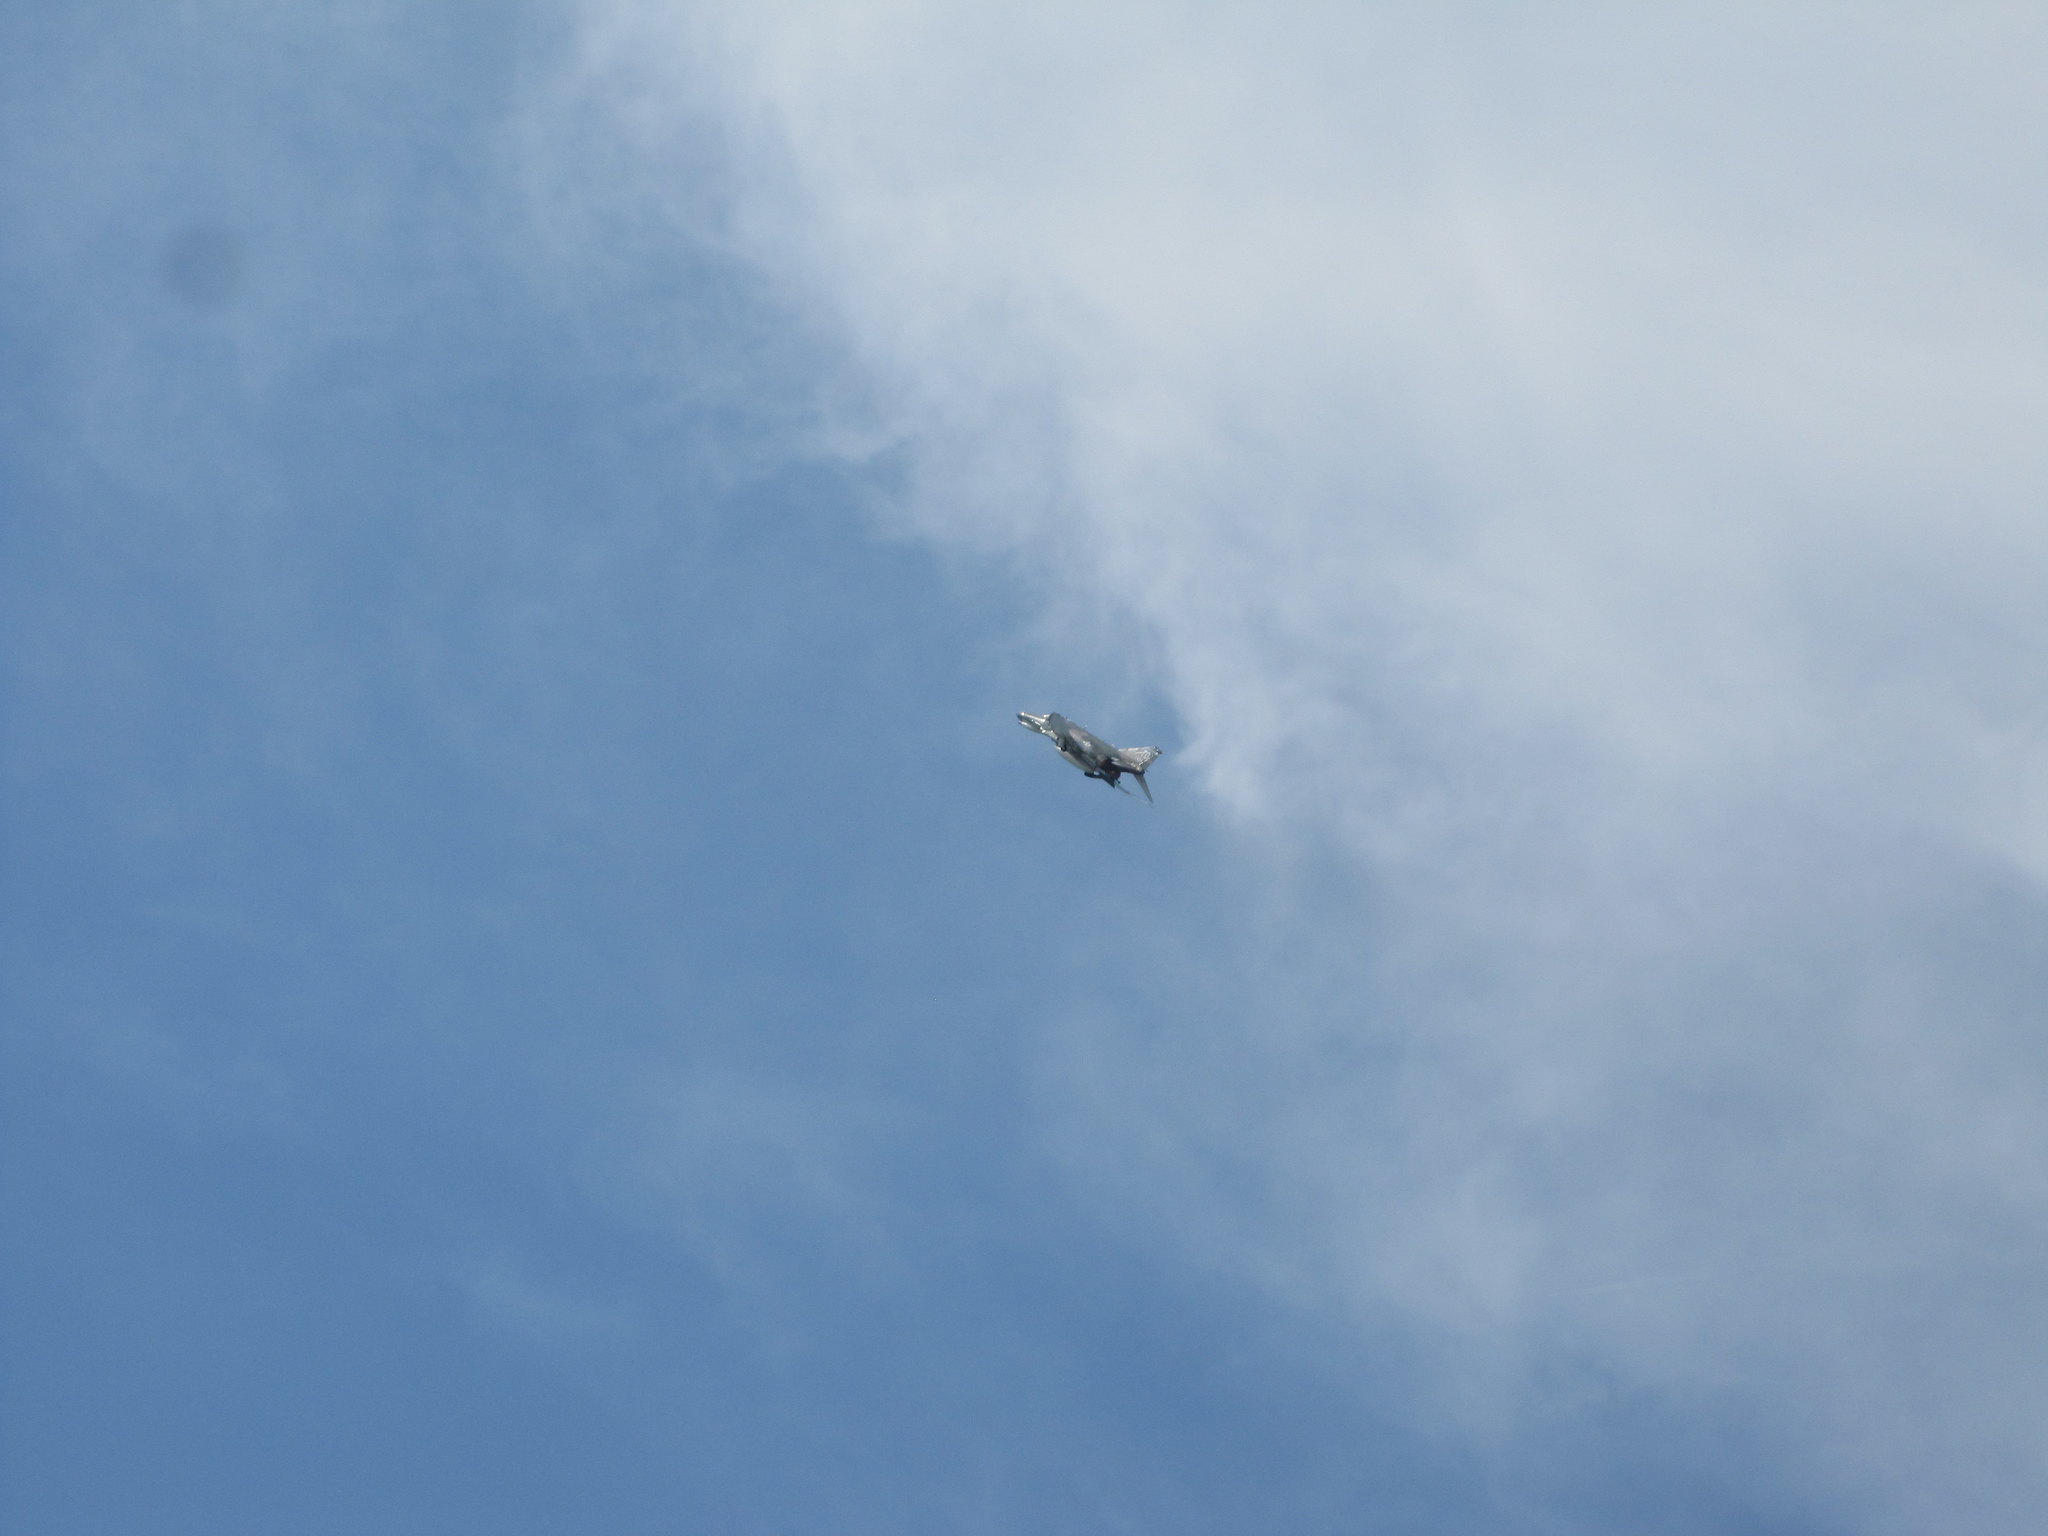F4: (1014, 710, 1164, 807)
